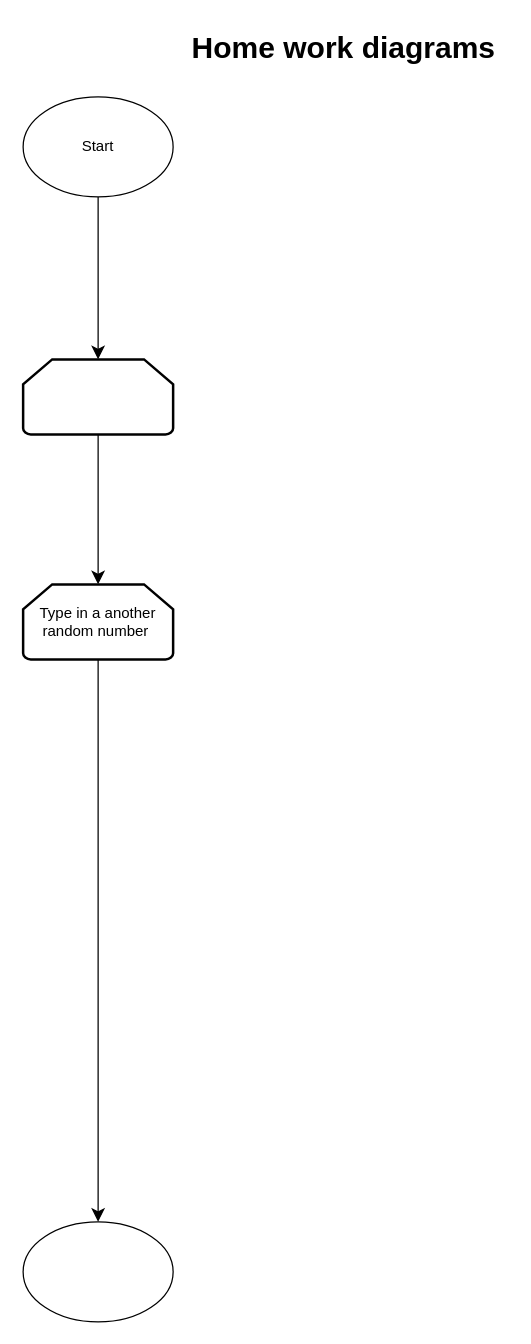
This 531x1344 diagram has some shape labels left out. Each missing label, with the centre of its shape:
"Stop" goes at (x=97, y=1271).
"Type in a random number" goes at (x=97, y=396).
